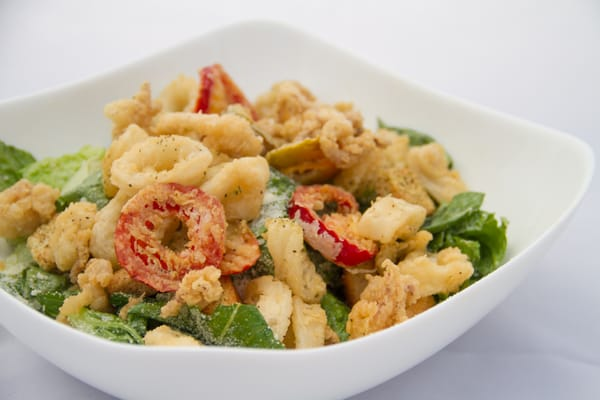curry: (1, 140, 110, 212), (421, 190, 509, 276), (0, 235, 78, 317), (165, 301, 286, 350)
sushi: (0, 15, 595, 389)
